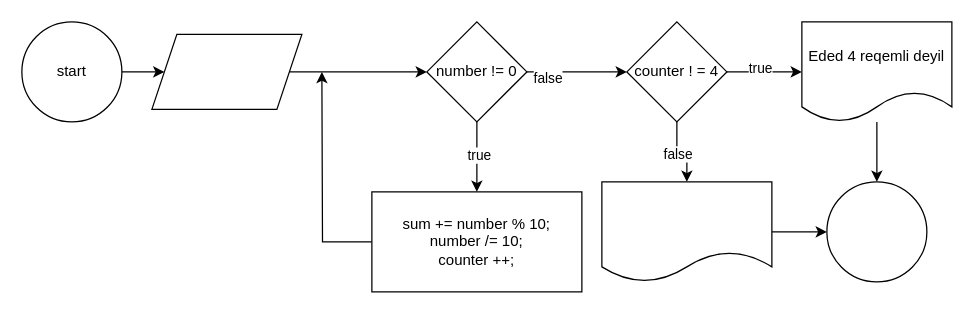
Some shapes in this 974 by 314 pixel diagram are drawn without their labels. Here are the shapes that lost their labels. From the top down, the box of each, then its label:
(151, 33, 302, 109): int number; int sum = 0; int counter =0;
(601, 181, 772, 282): Reqemlerin cemi : sum
(826, 181, 927, 282): end
